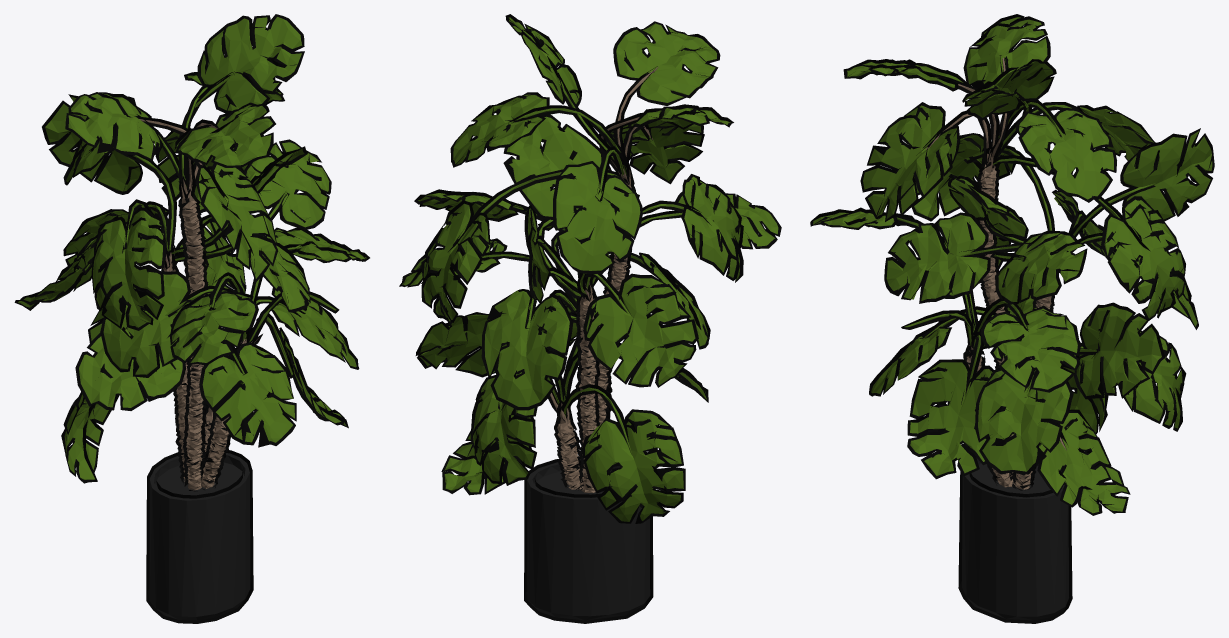
The model's file is plante_2.glb.
3 views of the same model, side by side, from view 1: azimuth 30°, elevation 25°; view 2: azimuth 150°, elevation 25°; view 3: azimuth 270°, elevation 25° (orthographic).
Visible parts, largest first — view 1: plant.001; view 2: plant.001; view 3: plant.001.
Part boxes in pixels (<box>): plant.001: <box>14,14,369,623</box>; plant.001: <box>399,14,781,623</box>; plant.001: <box>810,14,1214,623</box>.
Bounding box in the file's own units: 1.17 × 2.02 × 1.29.
